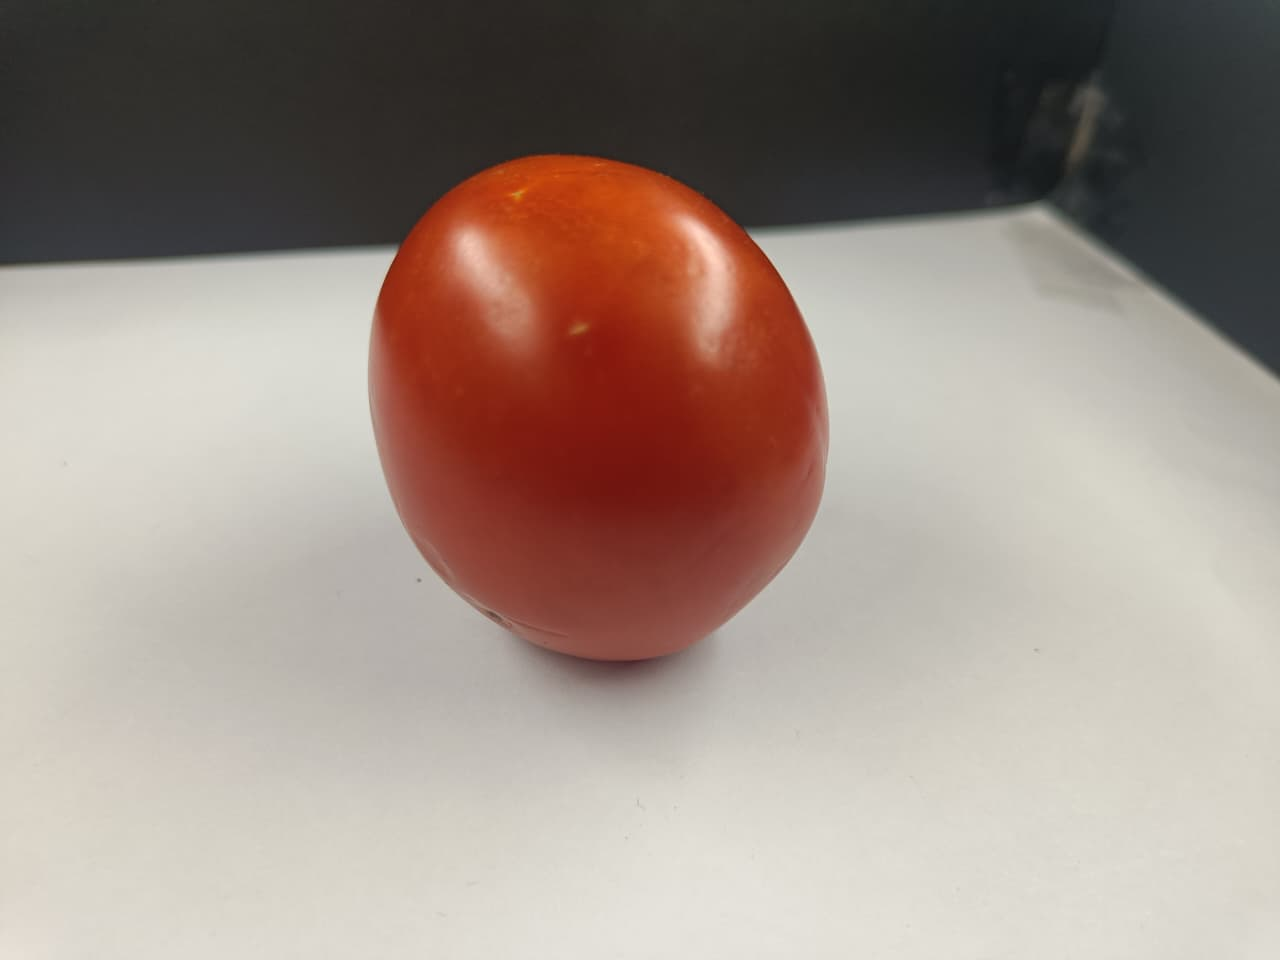ripe: (290, 149, 847, 675)
